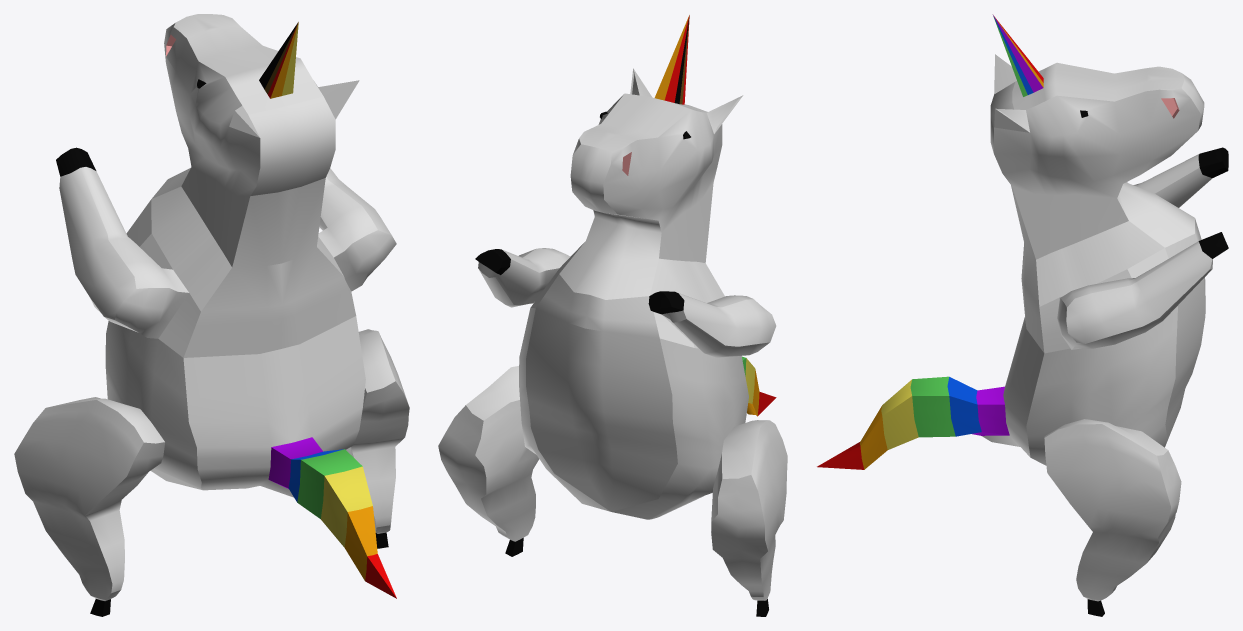
Rendered from Unicorn.fbx.
3 renders of one model, left to right at view 1: azimuth 30°, elevation 25°; view 2: azimuth 150°, elevation 25°; view 3: azimuth 270°, elevation 25°, orthographic. The views are drawn at different scales.
Parts seen in each view (by area): view 1: unicorn; view 2: unicorn; view 3: unicorn.
Part boxes in pixels (<box>): unicorn: <box>14,14,409,616</box>; unicorn: <box>438,15,787,616</box>; unicorn: <box>817,14,1228,616</box>.
Size of the model in its own units: 2.26 by 3.51 by 2.43.
